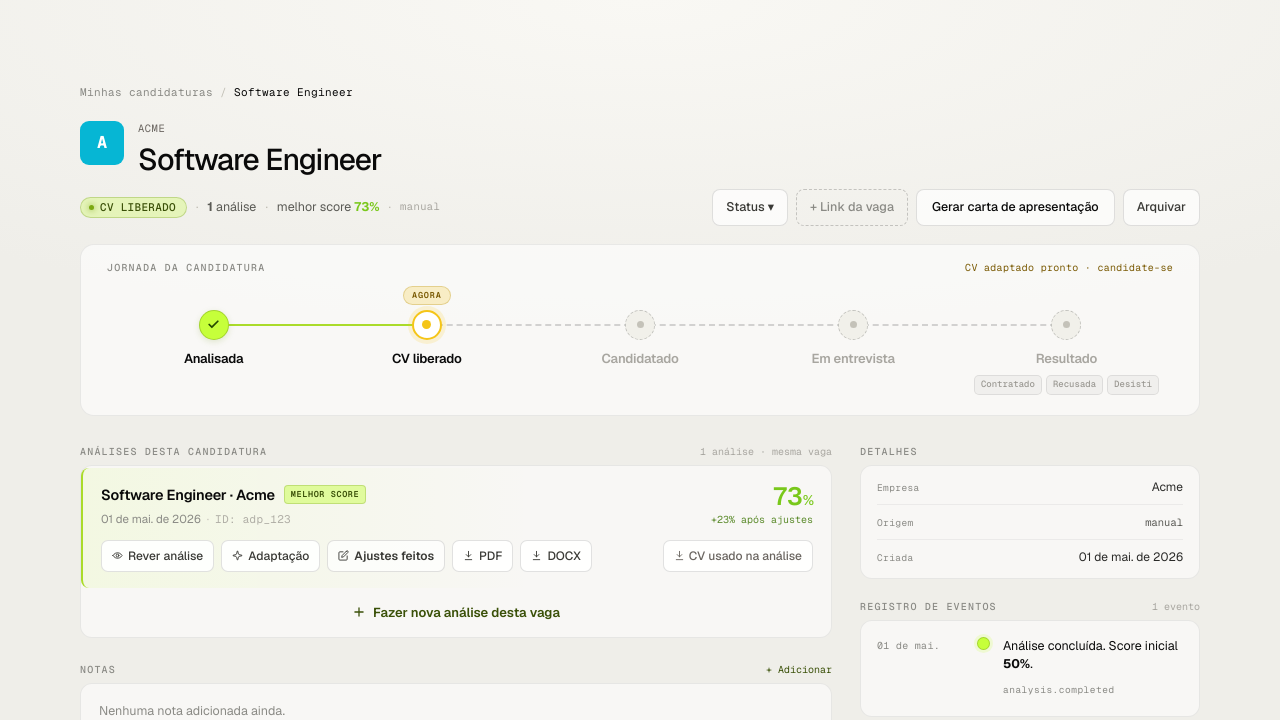
DetailClient - CV ADAPTADO card › shows a non-master resume title in the adjustments popup
Click the button "Ajustes feitos": x=386, y=556 [327,540,445,572]
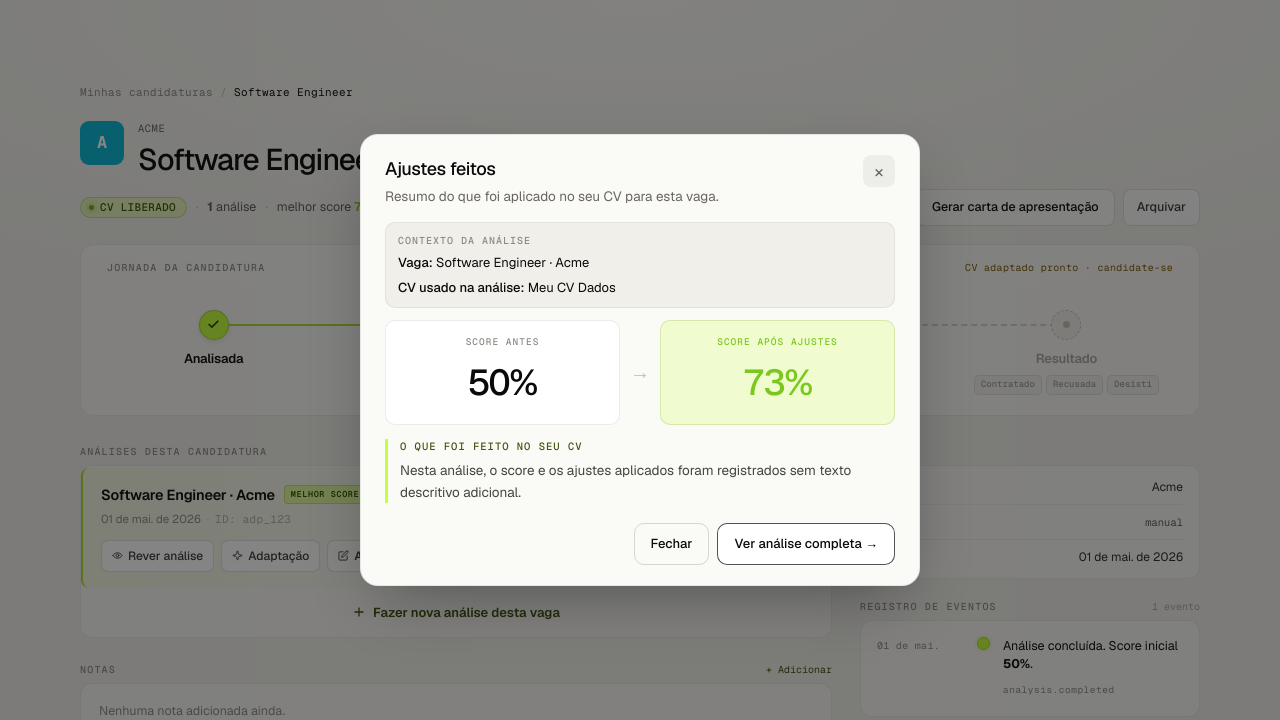
Expected: the text "Meu CV Dados" is shown, [528,279,616,296]
